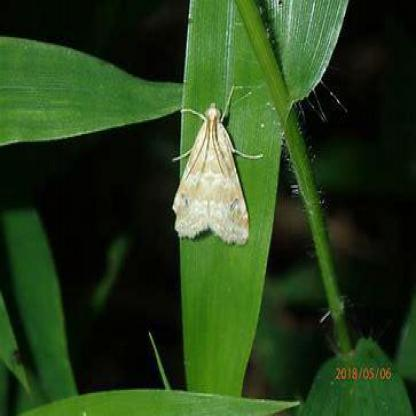Hellula undalis: (167, 80, 274, 248)
